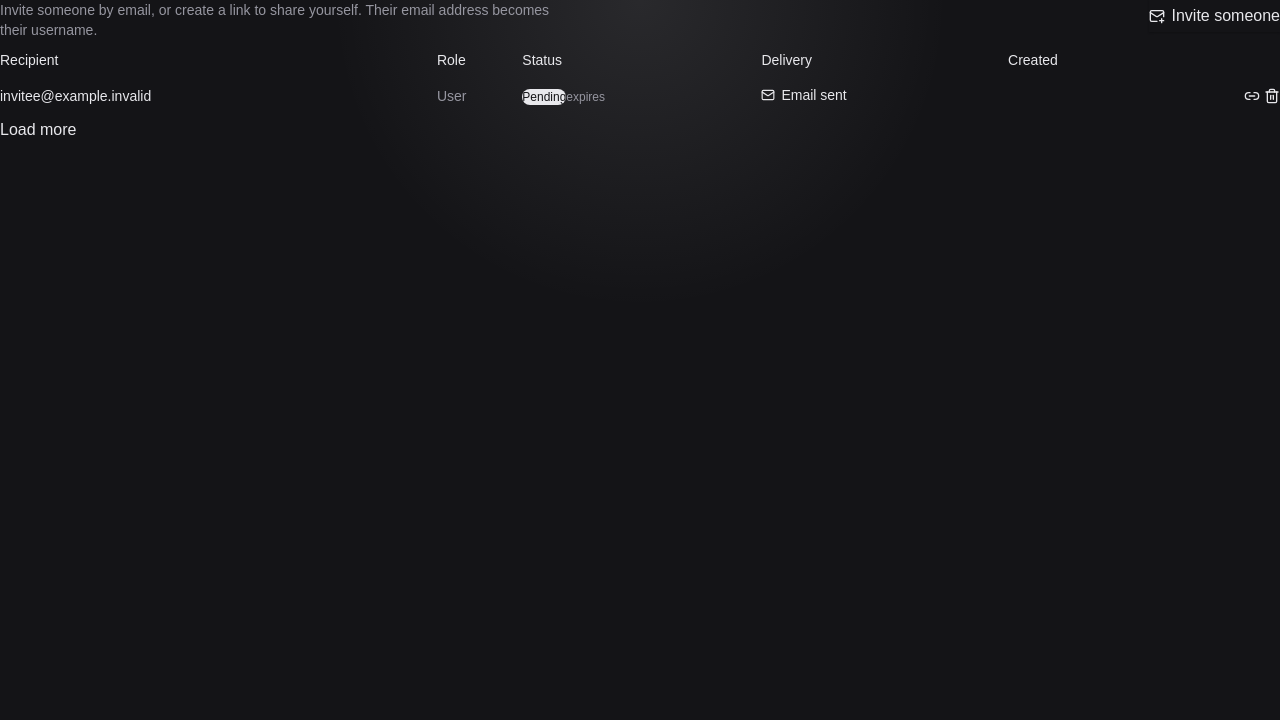
Test: offers only link creation when email is not configured
Click the button "Invite someone" at (1215, 16), box [1150,0,1279,32]
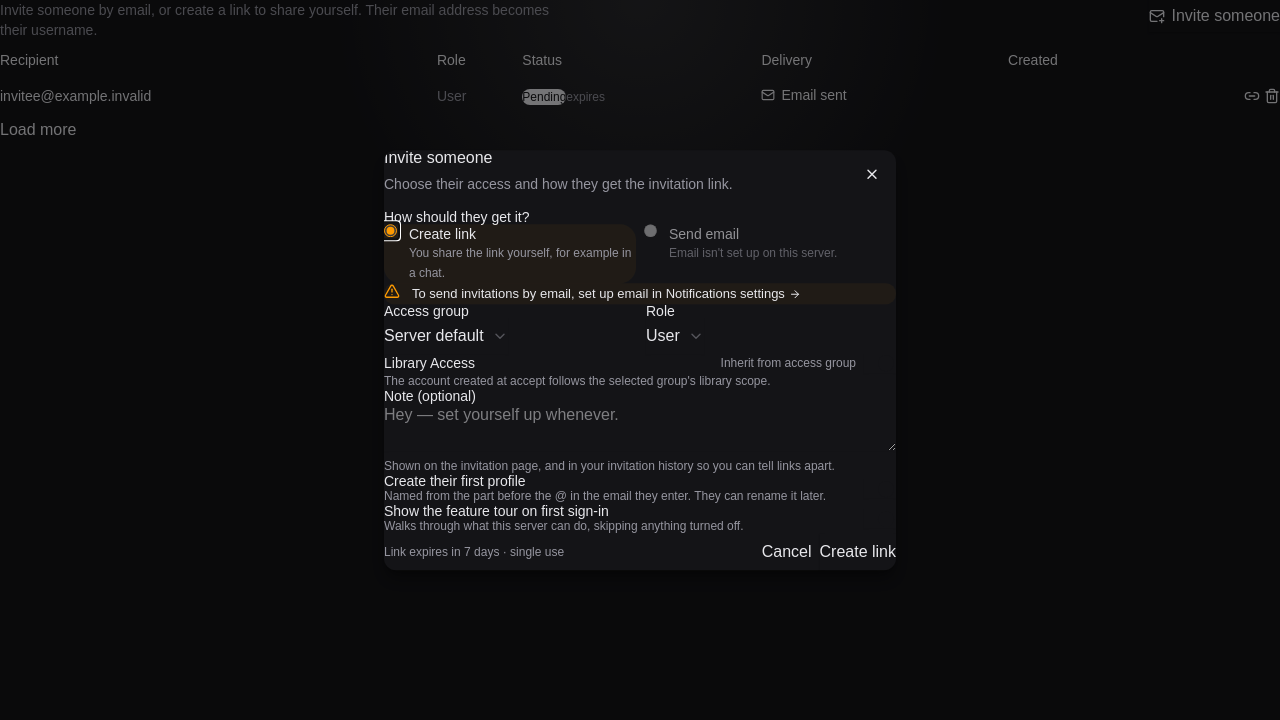
Expected: the radio button labelled "Create link" is checked, [384,224,397,237]
Expected: the radio button labelled "Send email" is disabled, [644,224,657,237]
Expected: the text "Email isn't set up on this server." is shown, [669,246,837,260]
